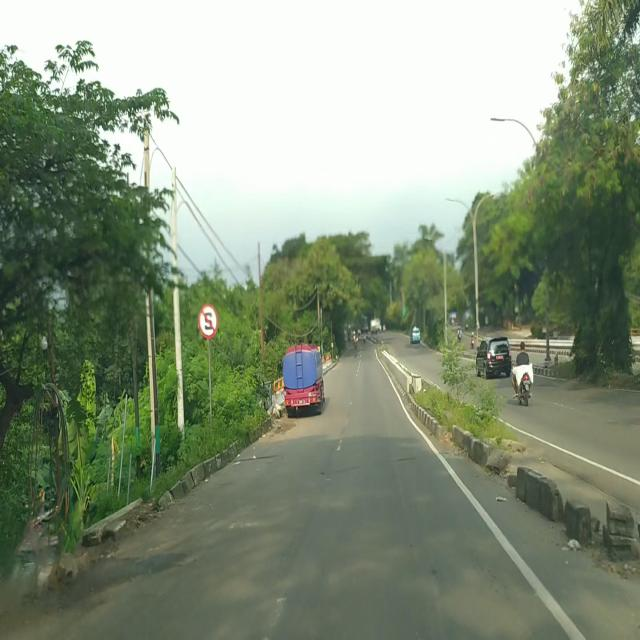Sewer Cover: (321, 452, 430, 479)
